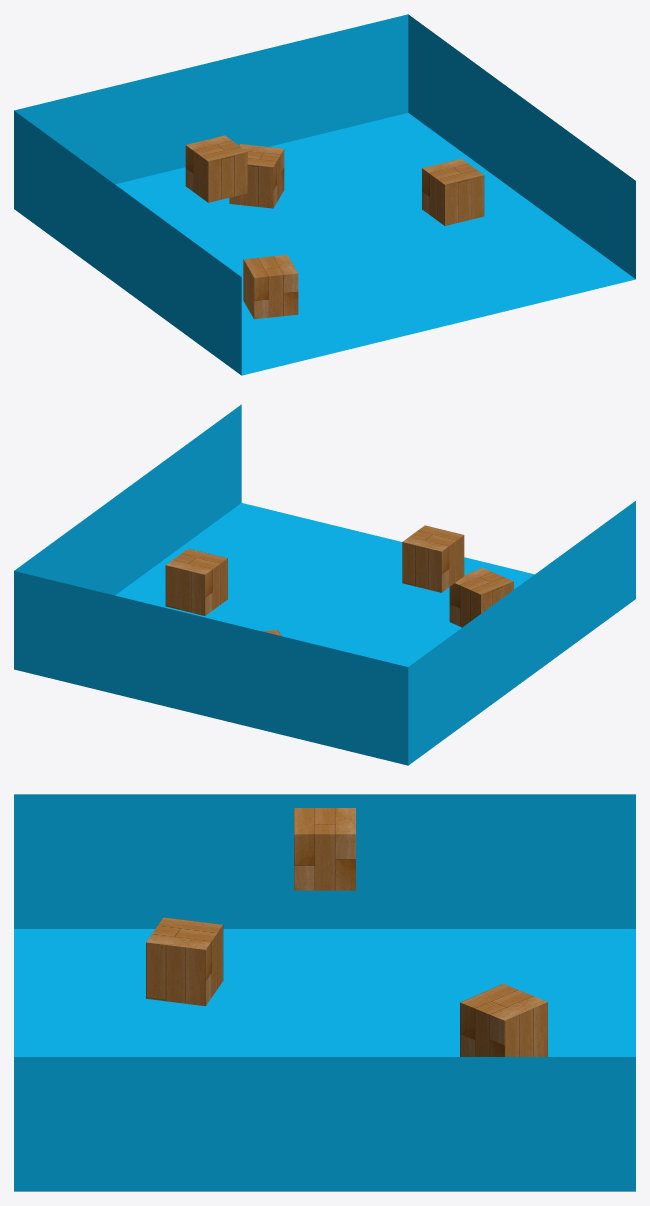
3 renders of one model, top to bottom at view 1: azimuth 30°, elevation 25°; view 2: azimuth 150°, elevation 25°; view 3: azimuth 270°, elevation 25°, orthographic. The views are drawn at different scales.
Visible parts, largest first — view 1: Cube, Cube.003, Cube.001, Cube.004, Cube.002; view 2: Cube, Cube.003, Cube.001, Cube.004; view 3: Cube, Cube.004, Cube.002, Cube.003.
Part boxes in pixels (left/top/right/bottom): Cube: left=14, top=14, right=635, bottom=375; Cube.003: left=185, top=135, right=247, bottom=202; Cube.001: left=422, top=158, right=484, bottom=225; Cube.004: left=243, top=254, right=298, bottom=319; Cube.002: left=229, top=144, right=284, bottom=208; Cube: left=14, top=404, right=635, bottom=765; Cube.003: left=402, top=525, right=464, bottom=592; Cube.001: left=165, top=548, right=227, bottom=615; Cube.004: left=449, top=567, right=513, bottom=627; Cube: left=14, top=794, right=635, bottom=1191; Cube.004: left=146, top=917, right=223, bottom=1006; Cube.002: left=460, top=983, right=547, bottom=1056; Cube.003: left=294, top=808, right=355, bottom=890.
Size of the model in its own units: 20 by 5.92 by 20.
Materials: 2 (1 with a texture image).
